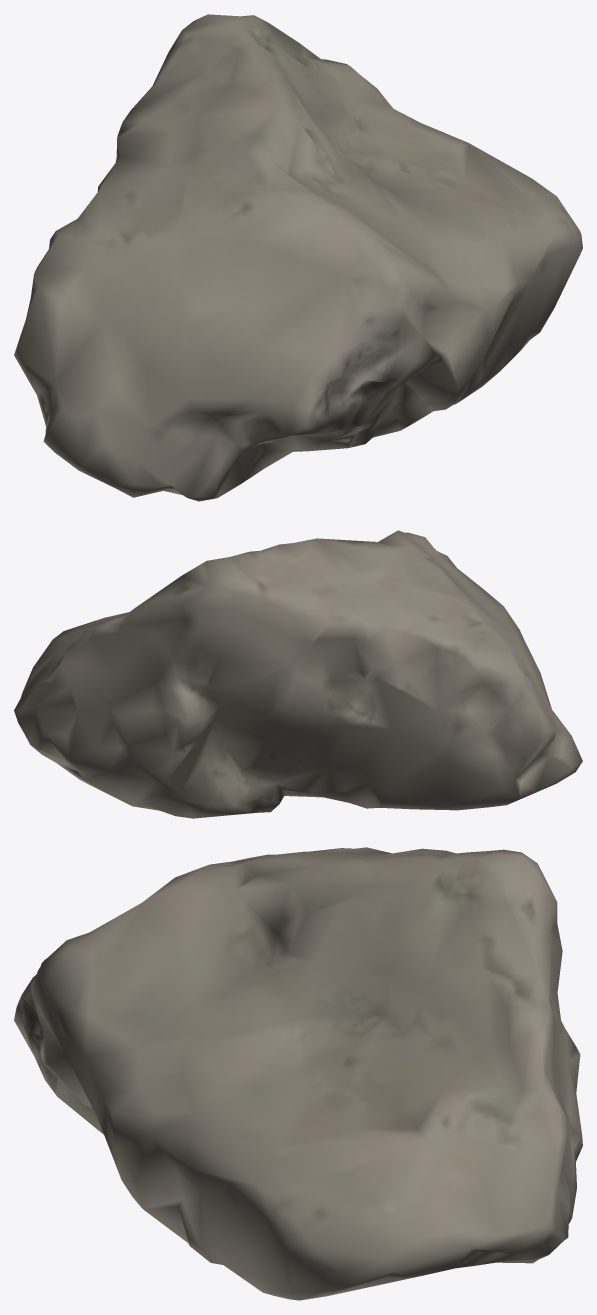
Rendered from stone_a.glb.
3 views of the same model, one above another, from view 1: azimuth 30°, elevation 25°; view 2: azimuth 150°, elevation 25°; view 3: azimuth 270°, elevation 25° (orthographic). The views are drawn at different scales.
Visible parts, largest first — view 1: moon_rock_03_LOD0; view 2: moon_rock_03_LOD0; view 3: moon_rock_03_LOD0.
Boxes of the visible parts, x1,y1,x2,y2 form: moon_rock_03_LOD0: [14, 14, 582, 501]; moon_rock_03_LOD0: [14, 530, 582, 818]; moon_rock_03_LOD0: [14, 847, 582, 1300].
Bounding box in the file's own units: 0.112 × 0.0582 × 0.0861.
1 material, 1 textured.
